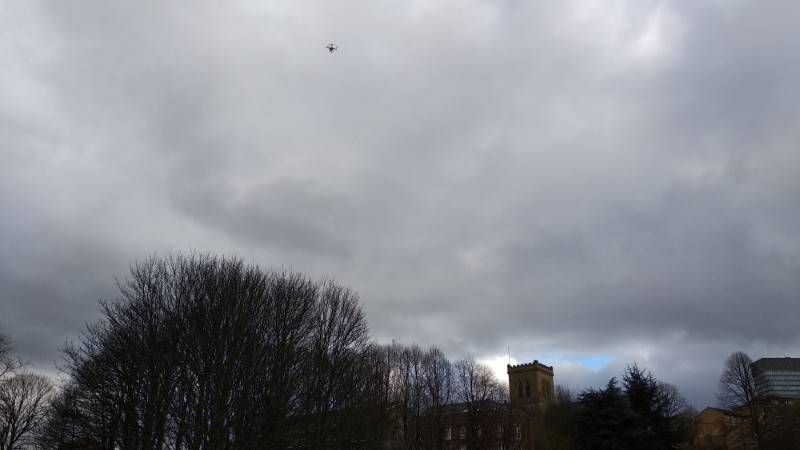drone: (326, 44, 339, 54)
